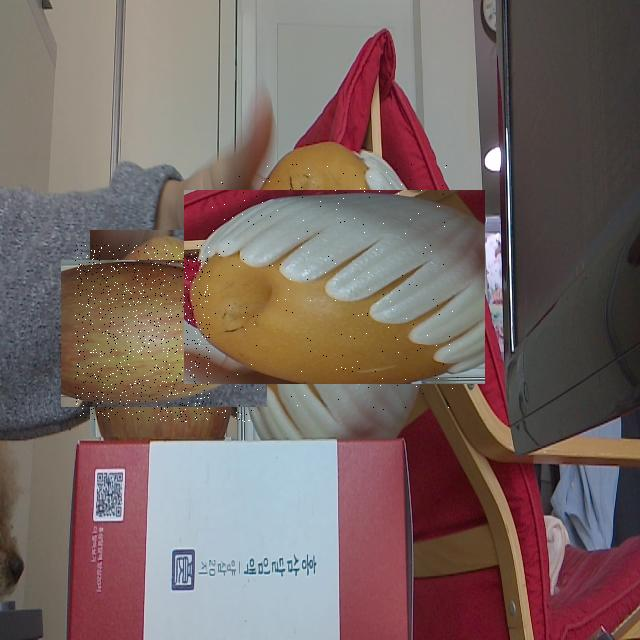apple: (75, 245, 252, 422)
pear: (210, 162, 459, 410)
